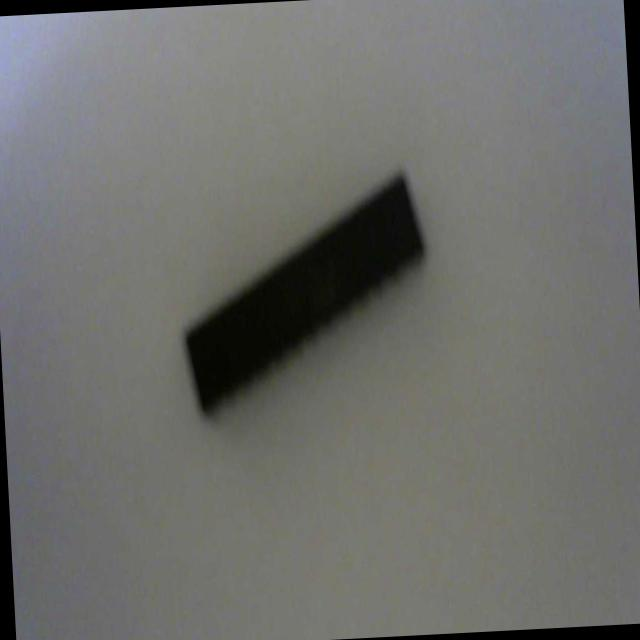atmega: (173, 166, 436, 422)
